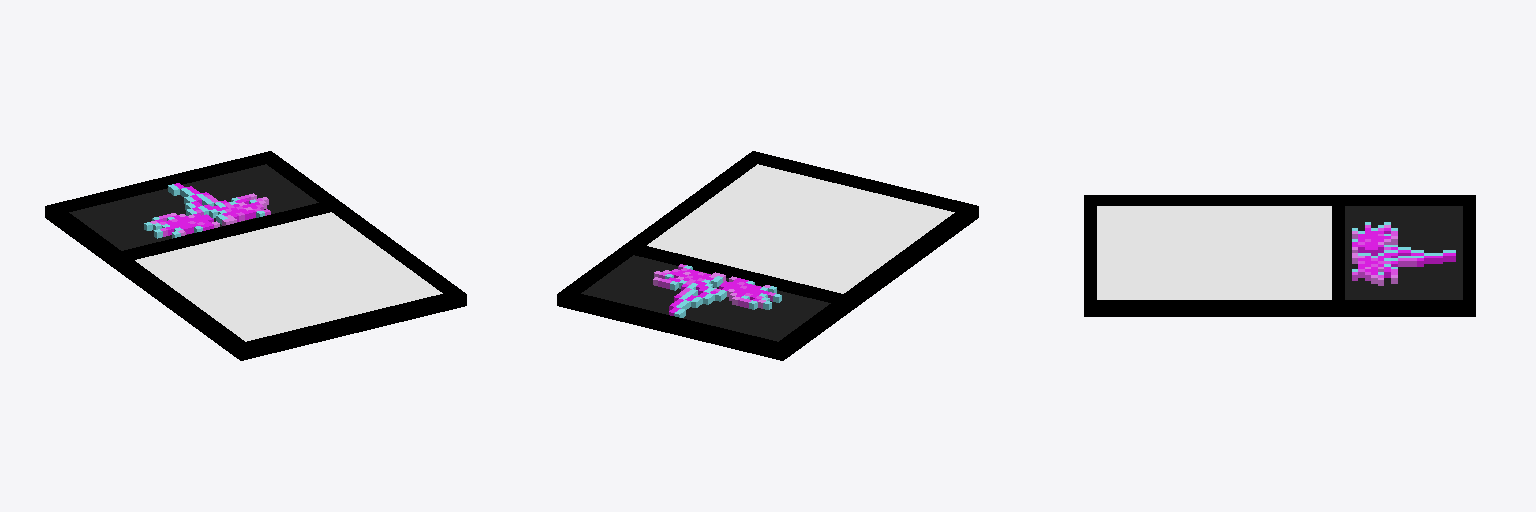
The picture shows the model from 3 angles: view 1: azimuth 30°, elevation 25°; view 2: azimuth 150°, elevation 25°; view 3: azimuth 270°, elevation 25°; orthographic projection.
Parts seen in each view (by area): view 1: object 1; view 2: object 1; view 3: object 1.
Boxes of the visible parts, x1,y1,x2,y2 form: object 1: [45, 151, 466, 360]; object 1: [557, 151, 978, 360]; object 1: [1084, 195, 1475, 316].
Bounding box in the file's own units: 4 × 0.2 × 6.
Materials: 1 (1 with a texture image).